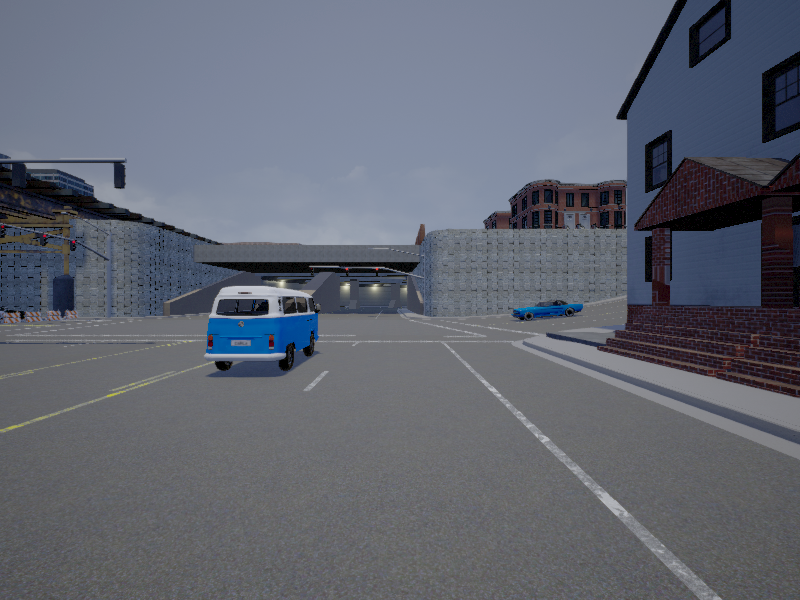Benign: (207, 285, 321, 372), (513, 300, 583, 318)
